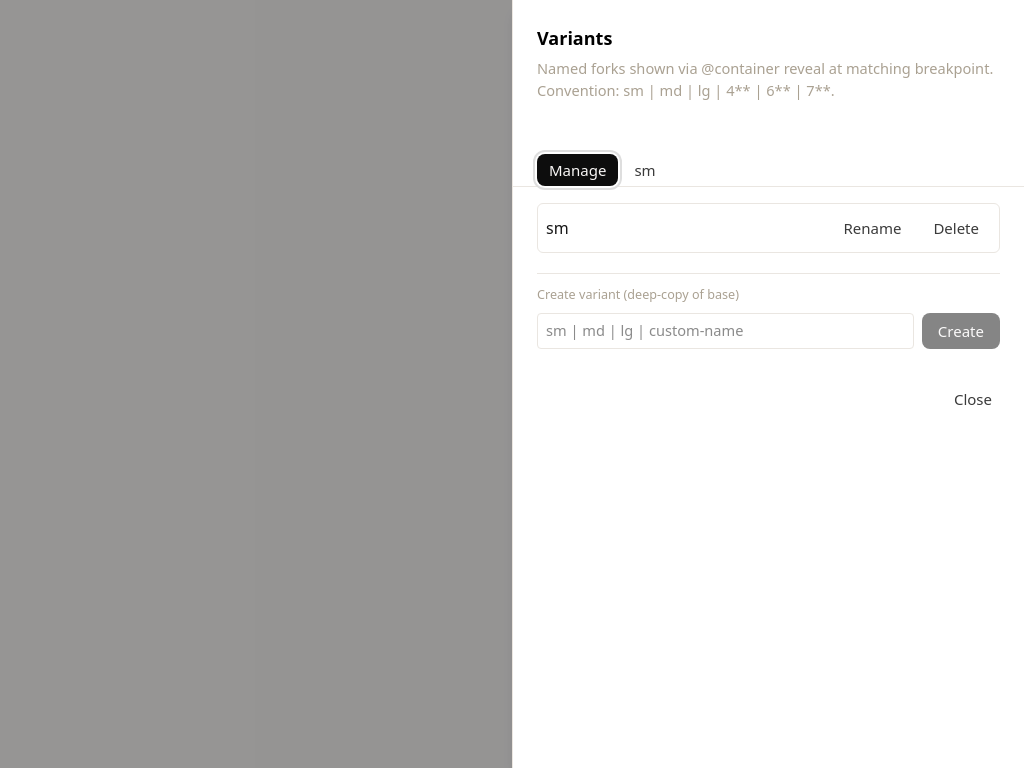
Test: VariantsDrawer — fork › fork with duplicate name → error + submit disabled
In the field with test id "variants-drawer-fork-input": x=725, y=331 [537,313,914,349], type "sm"
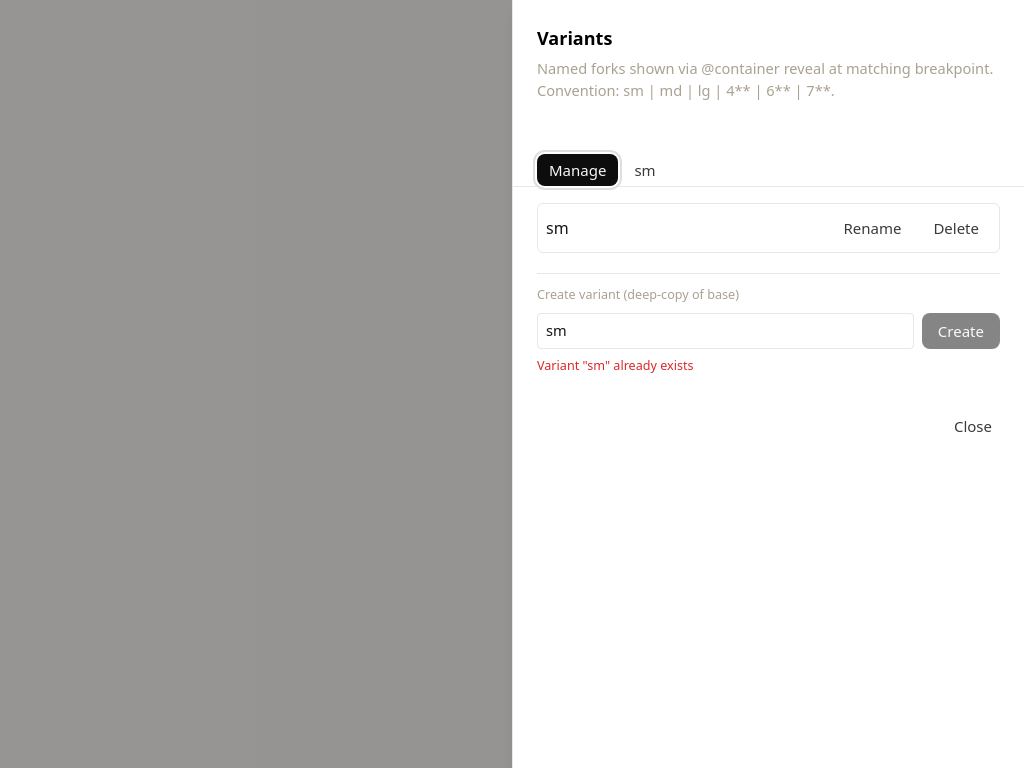
Expected: the button with test id "variants-drawer-fork-submit" is disabled, [922,313,1000,349]
Now the text with test id "variants-drawer-fork-error" shows "already exists", box [537,357,694,374]
